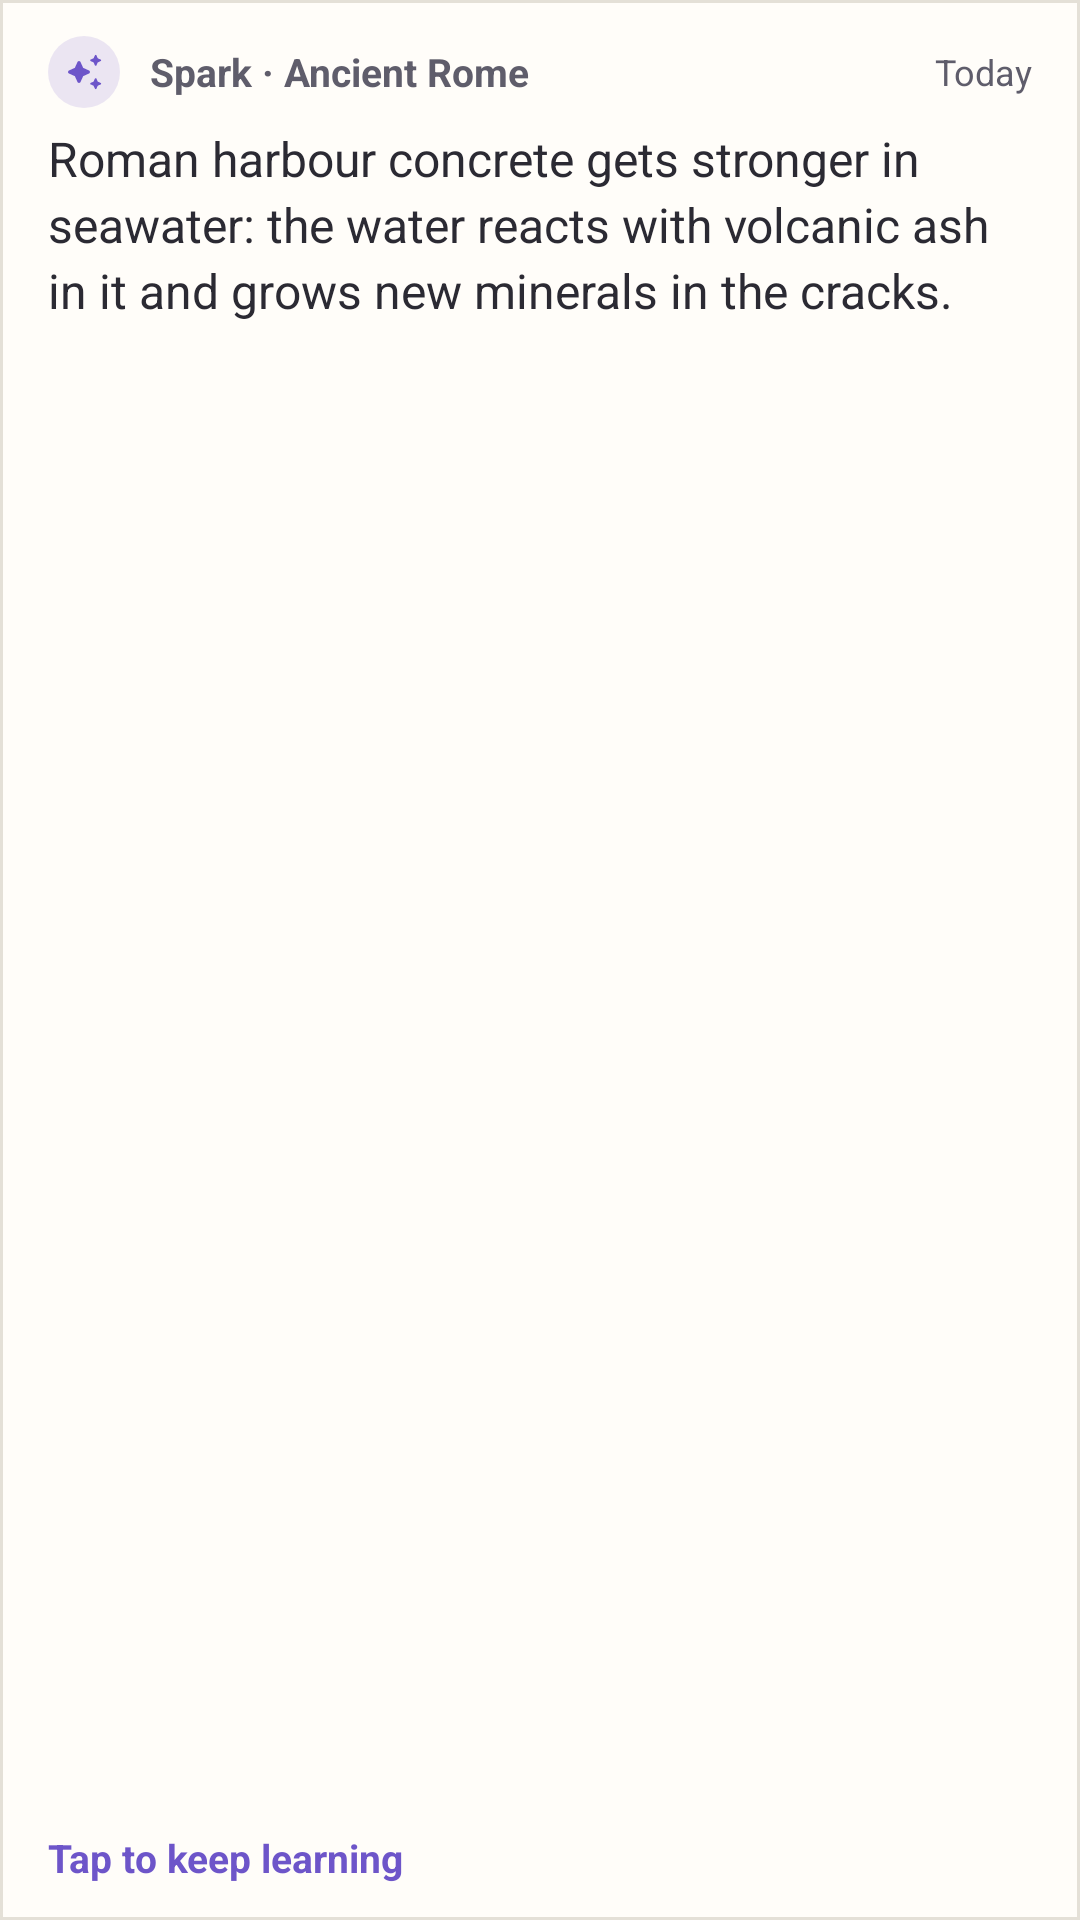

Icons on this 1080×1920 Android screen, each with its box as (x1, y1, x2, y2):
widget spark: (48, 36, 120, 108)
